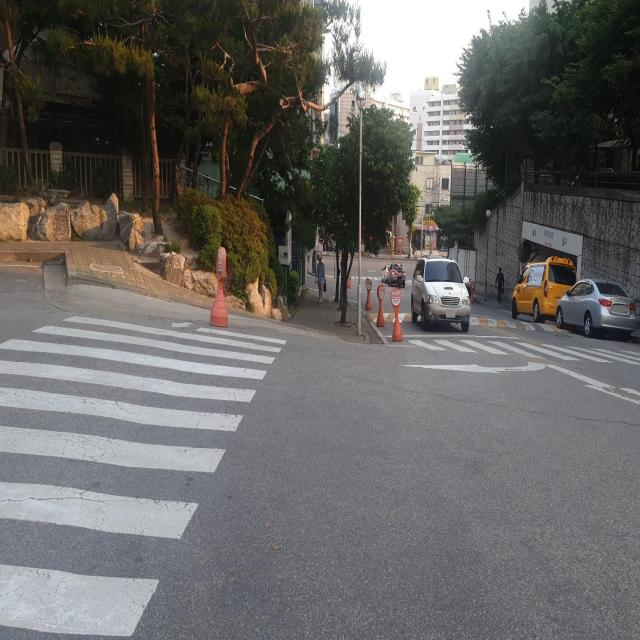횡단보도: (0, 312, 288, 637), (400, 336, 640, 372)
